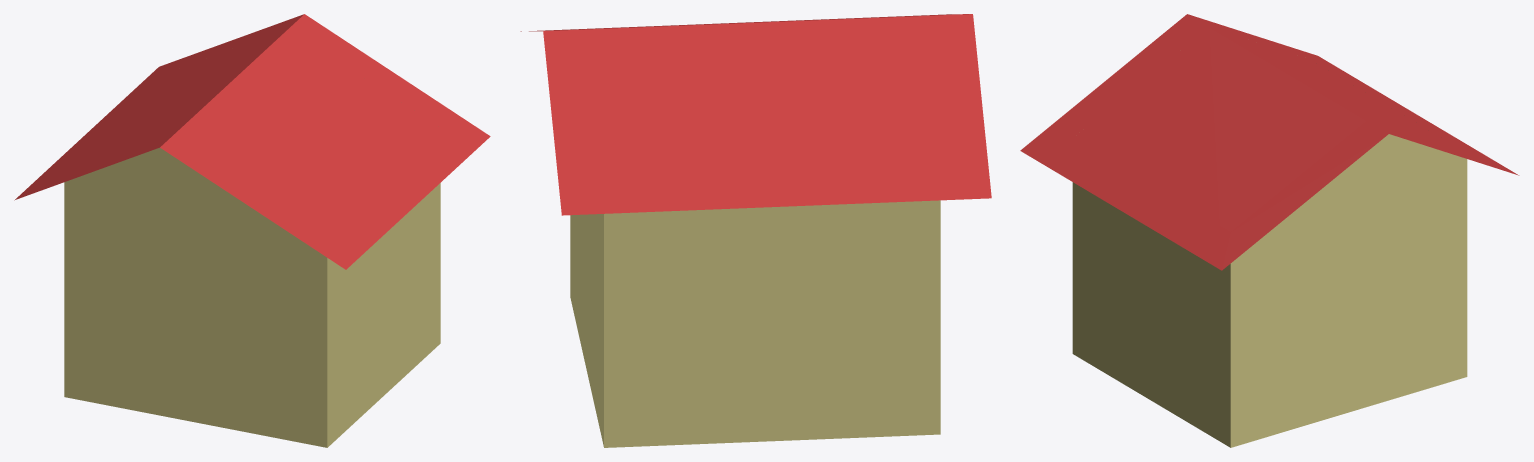
The picture shows the model from 3 angles, left to right: view 1: azimuth 30°, elevation 25°; view 2: azimuth 150°, elevation 25°; view 3: azimuth 270°, elevation 25°; orthographic projection. The views are drawn at different scales.
Size of the model in its own units: 13.12 by 13.23 by 8.35.
